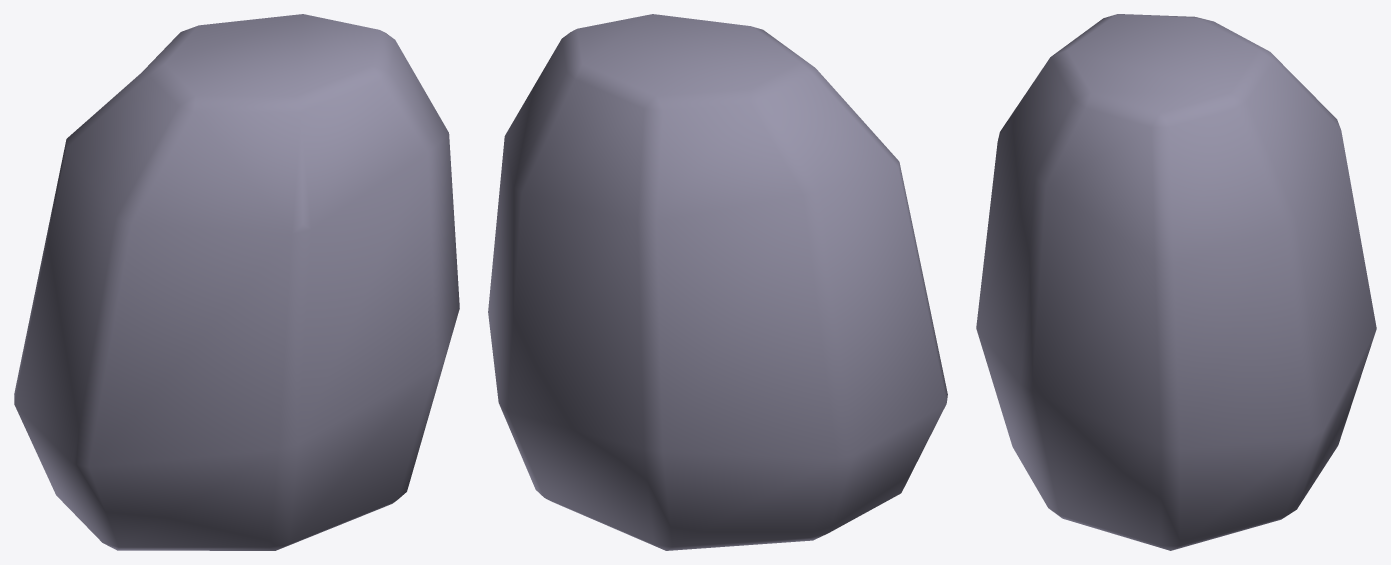
The model's file is rock_medium_01.glb.
The picture shows the model from 3 angles, left to right: view 1: azimuth 30°, elevation 25°; view 2: azimuth 150°, elevation 25°; view 3: azimuth 270°, elevation 25°; orthographic projection. The views are drawn at different scales.
Parts seen in each view (by area): view 1: rock_medium_01; view 2: rock_medium_01; view 3: rock_medium_01.
Boxes of the visible parts, x1,y1,x2,y2 form: rock_medium_01: [14, 14, 459, 550]; rock_medium_01: [488, 14, 947, 550]; rock_medium_01: [976, 14, 1376, 550].
Size of the model in its own units: 0.5882 by 0.57 by 0.4888.
